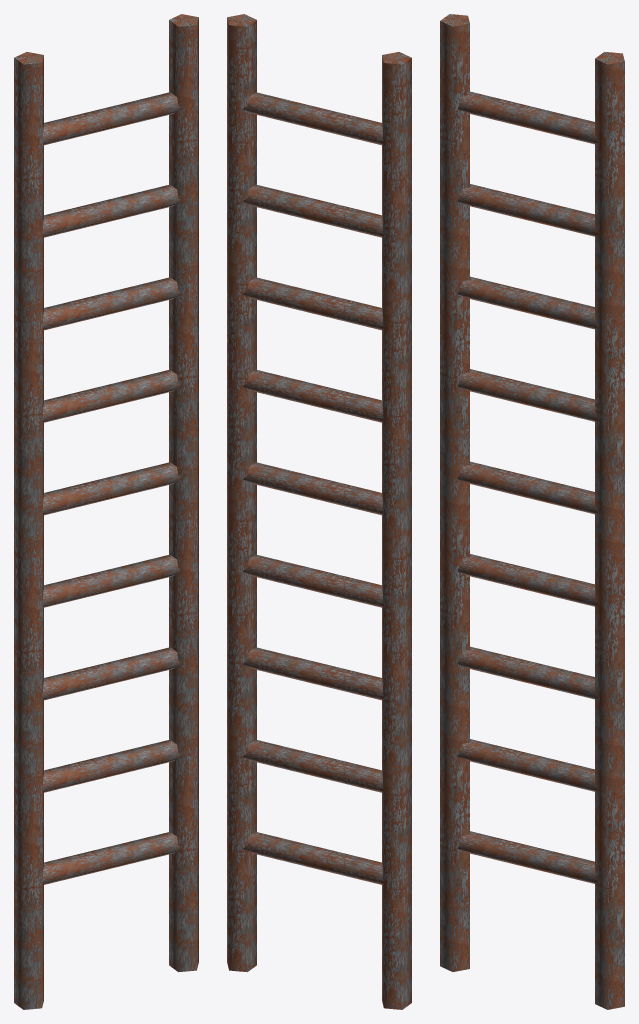
File: ladderSewer.fbx
3 views of the same model, side by side, from view 1: azimuth 30°, elevation 25°; view 2: azimuth 150°, elevation 25°; view 3: azimuth 330°, elevation 25° (orthographic).
Parts seen in each view (by area): view 1: laterais, bases; view 2: laterais, bases; view 3: laterais, bases.
Part boxes in pixels (bbox=[...]): laterais: bbox=[14, 14, 198, 1009]; bases: bbox=[42, 92, 183, 884]; laterais: bbox=[227, 14, 411, 1009]; bases: bbox=[242, 92, 383, 884]; laterais: bbox=[440, 14, 624, 1009]; bases: bbox=[457, 91, 598, 883].
Bounding box in the file's own units: 46.5 × 233 × 6.83.
2 materials, 2 textured.
